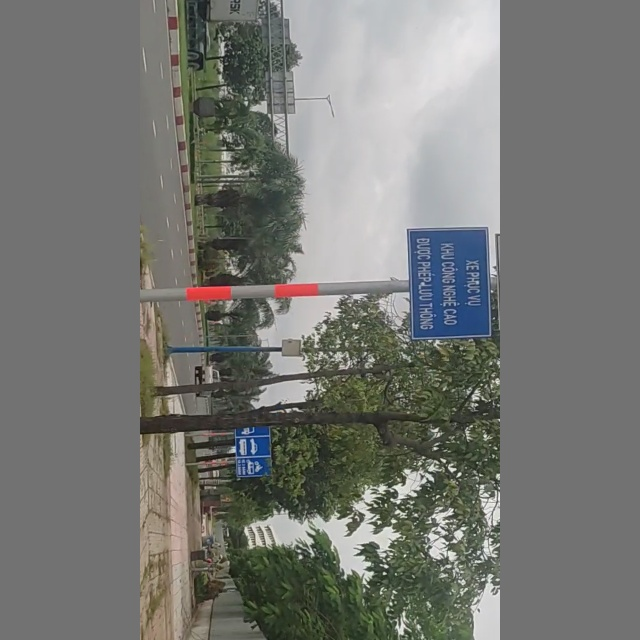R.415a: (233, 417, 277, 481)
